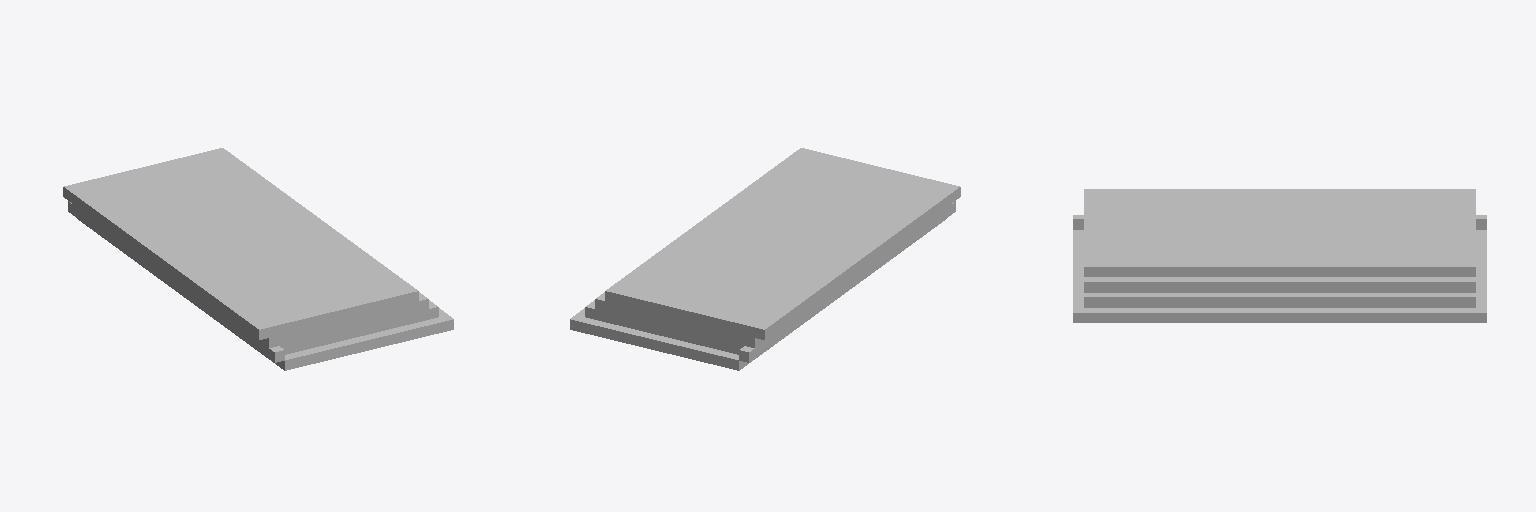
Rendered from SL_WB_RightPage.obj.
3 views of the same model, side by side, from view 1: azimuth 30°, elevation 25°; view 2: azimuth 150°, elevation 25°; view 3: azimuth 270°, elevation 25° (orthographic).
Visible parts, largest first — view 1: SL_WB_RightPage.001; view 2: SL_WB_RightPage.001; view 3: SL_WB_RightPage.001.
Part boxes in pixels (x1,y1,x2,y2): SL_WB_RightPage.001: (63,148,453,370); SL_WB_RightPage.001: (570,148,960,370); SL_WB_RightPage.001: (1073,189,1486,322).
Size of the model in its own units: 19 by 4 by 36.